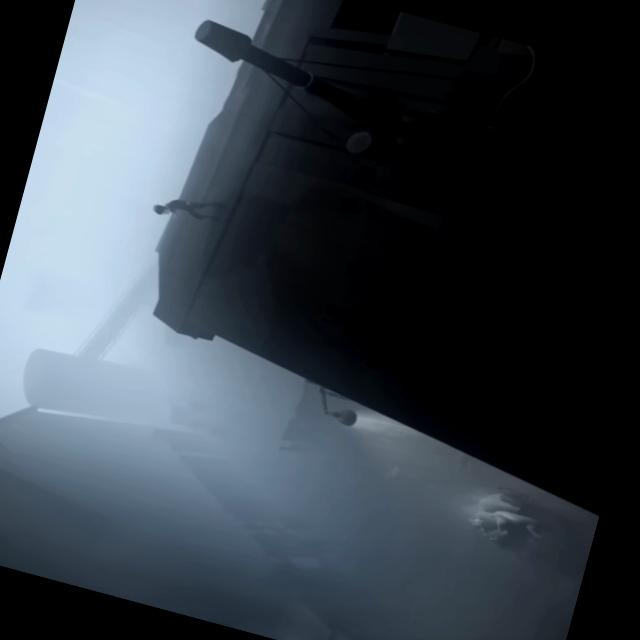boy: (151, 188, 215, 226)
